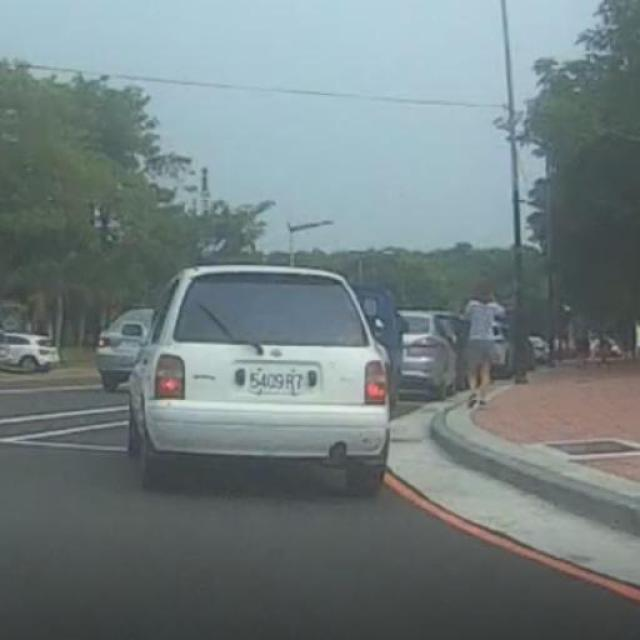Legalparking: (106, 269, 432, 523)
